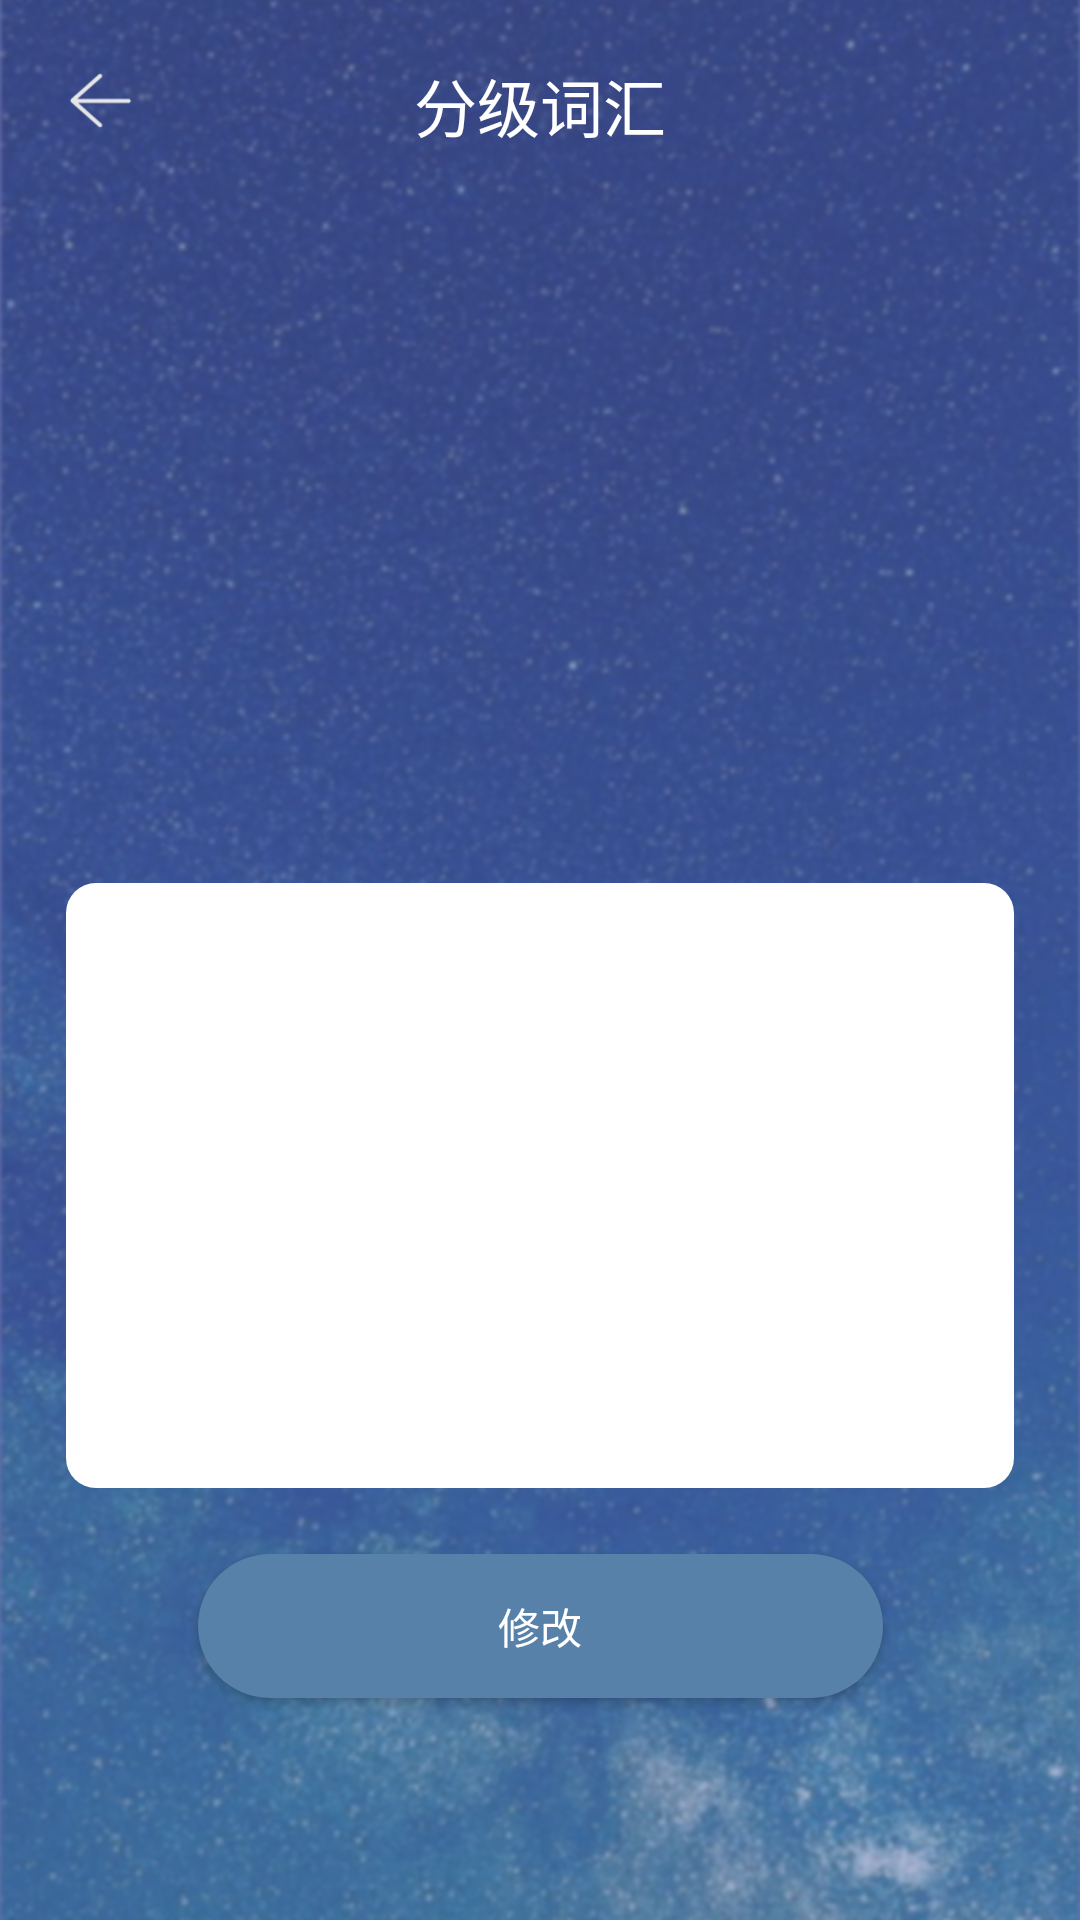

Icons on this 1080px x 1920px Android screen, each with the point to tap as [x,y]:
back: [100,100]
